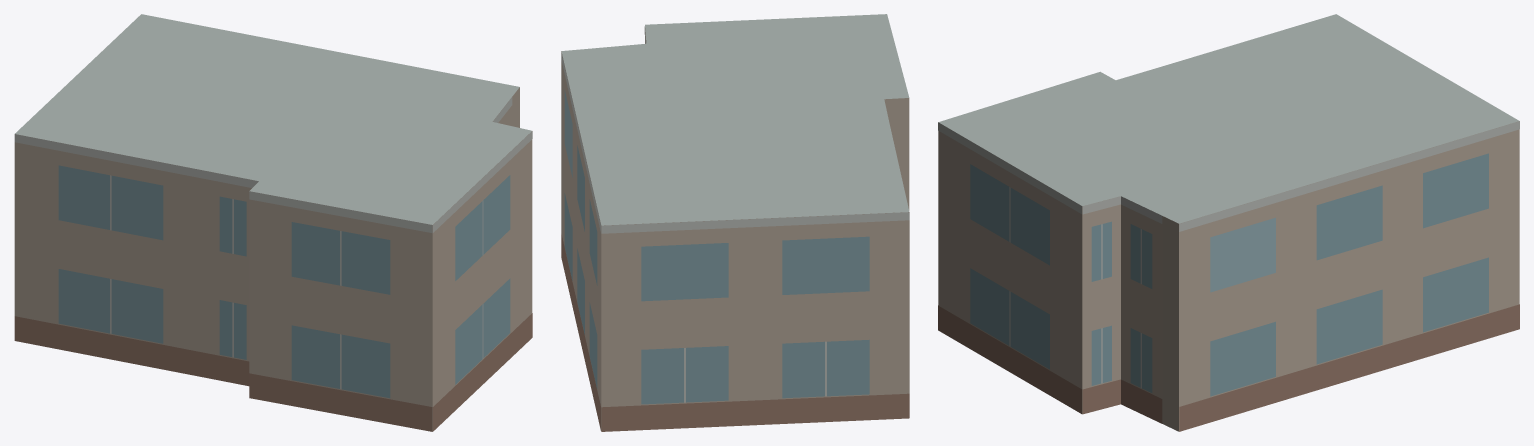
Rendered from survey-upis-32604665.glb.
3 renders of one model, left to right at view 1: azimuth 30°, elevation 25°; view 2: azimuth 150°, elevation 25°; view 3: azimuth 270°, elevation 25°, orthographic.
Parts seen in each view (by area): view 1: survey-upis-32604665.tmp; view 2: survey-upis-32604665.tmp; view 3: survey-upis-32604665.tmp.
Part boxes in pixels (<box>): survey-upis-32604665.tmp: <box>14,14,532,431</box>; survey-upis-32604665.tmp: <box>561,14,909,431</box>; survey-upis-32604665.tmp: <box>938,14,1519,431</box>.
Bounding box in the file's own units: 13.19 × 6.1 × 15.46.
